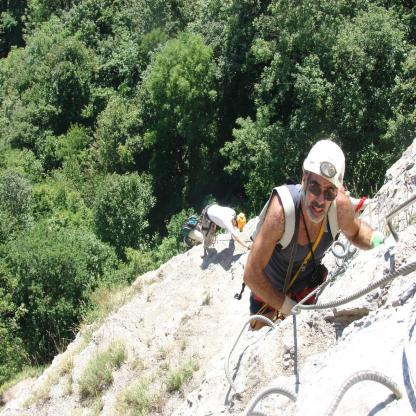Helmet: (303, 144, 345, 199), (235, 213, 246, 233)
